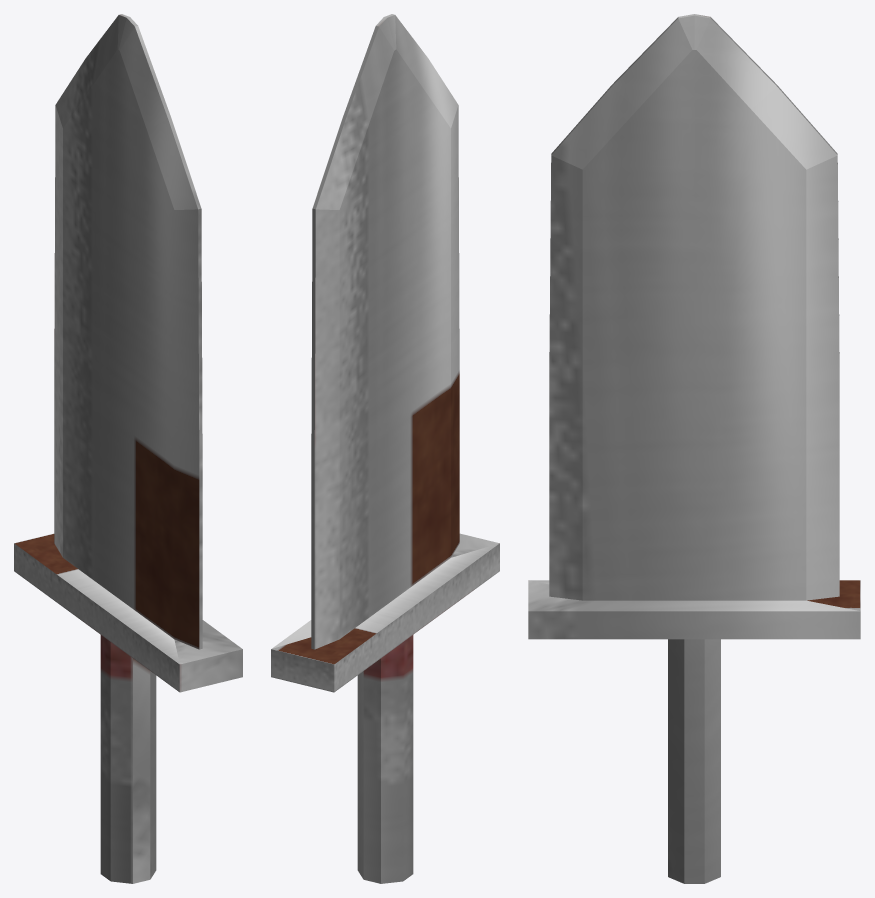
File: sword.fbx
3 renders of one model, left to right at view 1: azimuth 30°, elevation 25°; view 2: azimuth 150°, elevation 25°; view 3: azimuth 270°, elevation 25°, orthographic.
Parts seen in each view (by area): view 1: Cube; view 2: Cube; view 3: Cube.
Part boxes in pixels (x1,y1,x2,y2): Cube: (14,14,242,883); Cube: (271,14,499,883); Cube: (528,14,860,883).
Bounding box in the file's own units: 277 × 3583 × 1259.
1 material, 1 textured.
